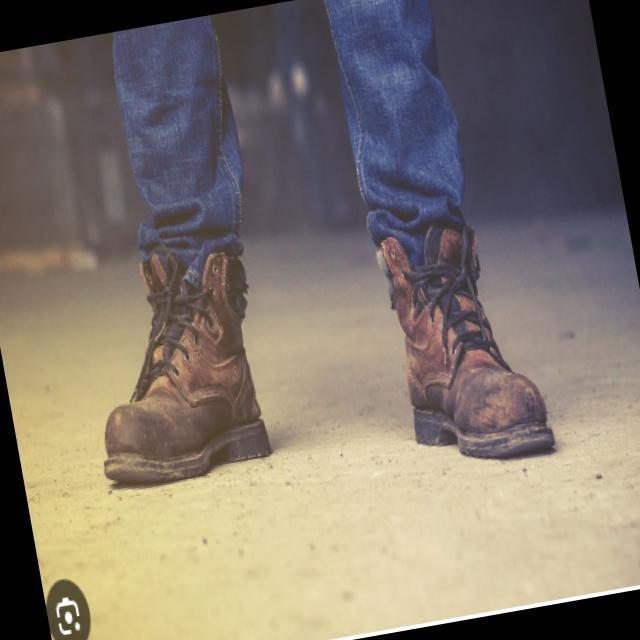shoes: (58, 163, 563, 540)
